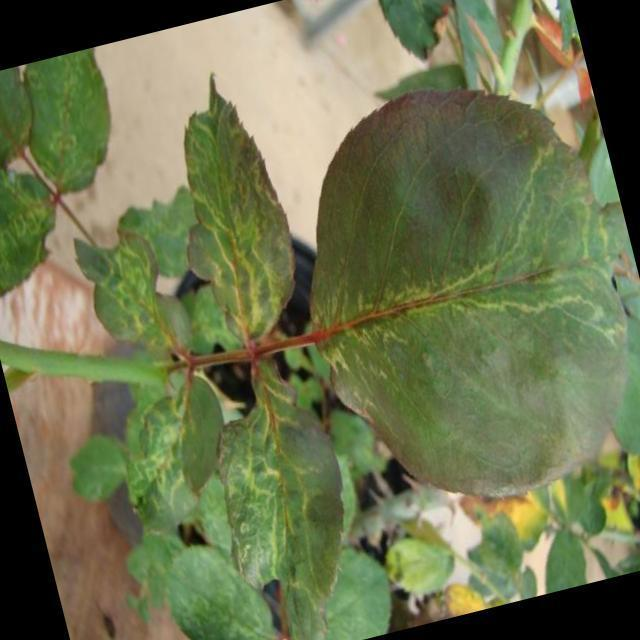Mosaic Virus: (295, 154, 627, 410), (155, 82, 308, 346), (205, 380, 344, 608), (124, 381, 216, 528), (90, 235, 177, 368), (0, 190, 70, 297)
